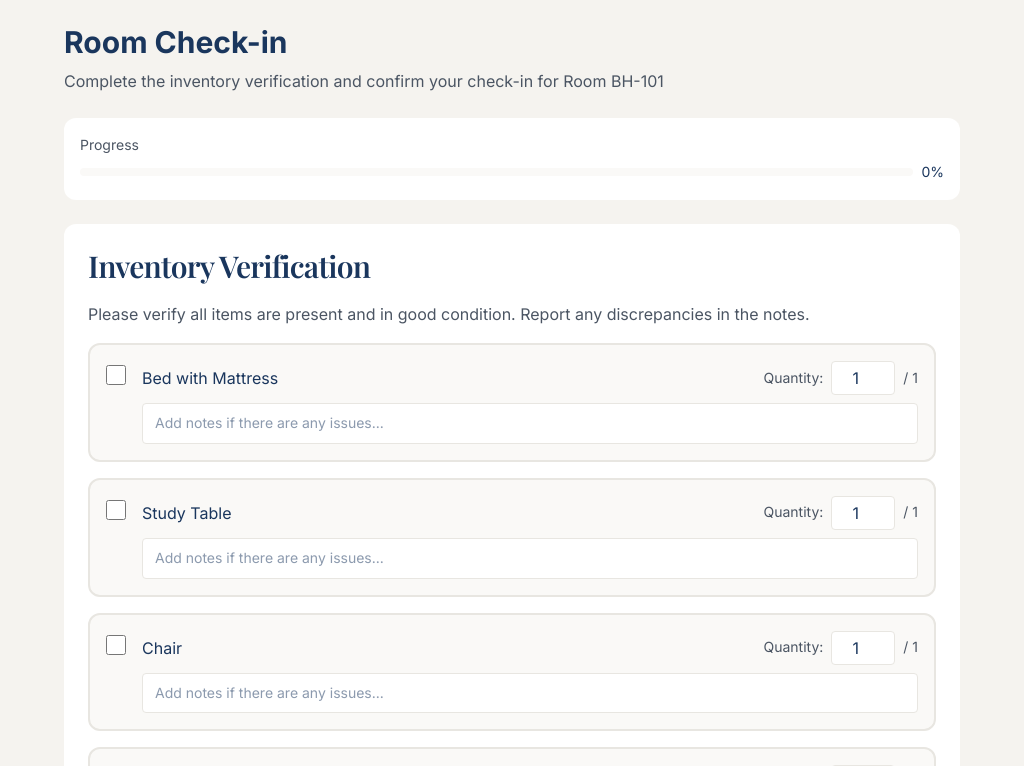
Task 17 - Check-in Confirmation › 17.51 - should show warning when quantity mismatches
Check: the text "Bed with Mattress" is shown, box [142,365,278,391]
Replace the text in the number field in the row of "Bed with Mattress" with "0": (863, 378) [831,361,895,395]
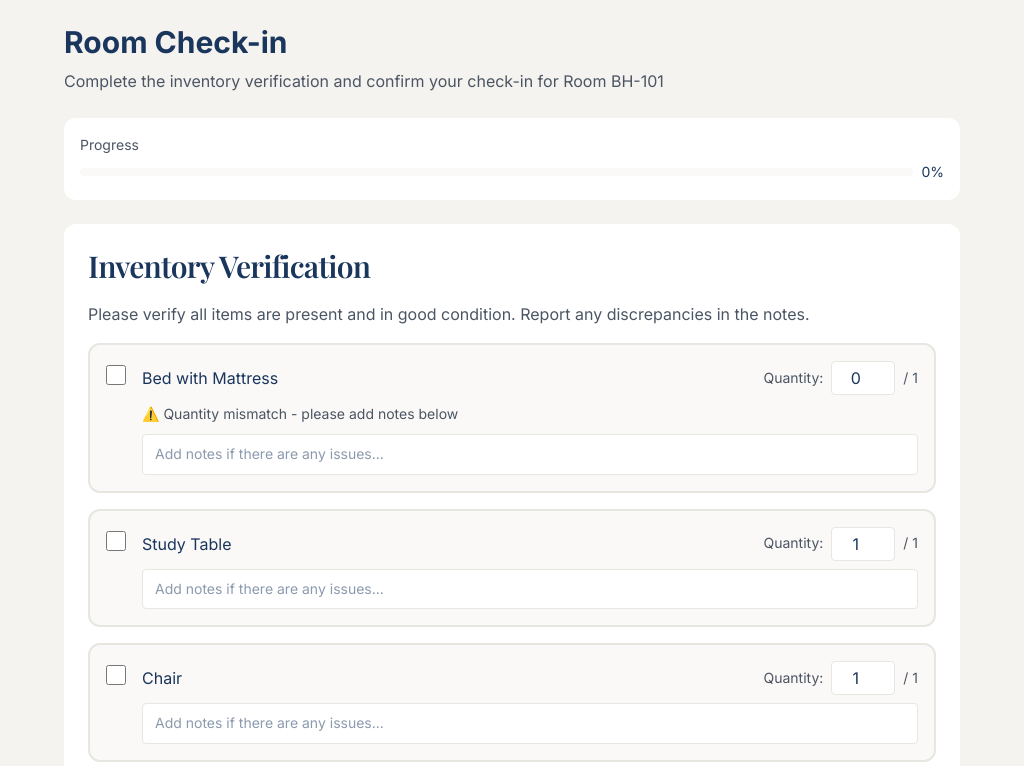
Check: the text "⚠️ Quantity mismatch - please add notes below" is shown, box [142,405,458,422]
